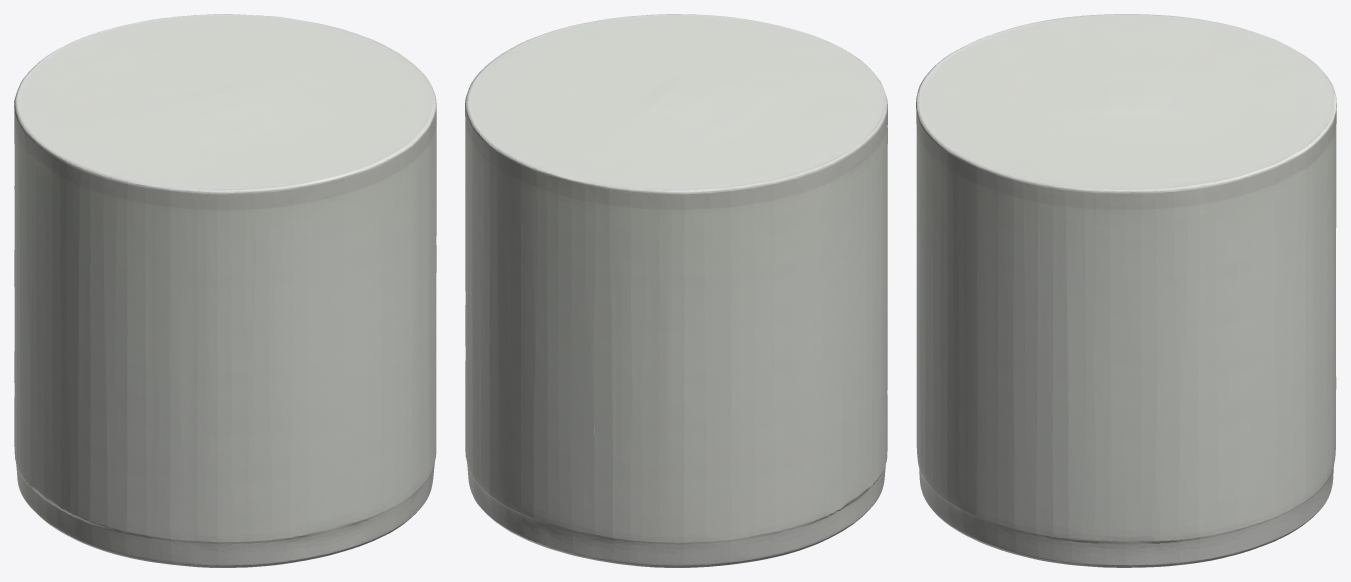
Rendered from banko1.glb.
3 renders of one model, left to right at view 1: azimuth 30°, elevation 25°; view 2: azimuth 150°, elevation 25°; view 3: azimuth 270°, elevation 25°, orthographic.
Bounding box in the file's own units: 99.32 × 99.21 × 99.26.
Materials: 1 (1 with a texture image).
